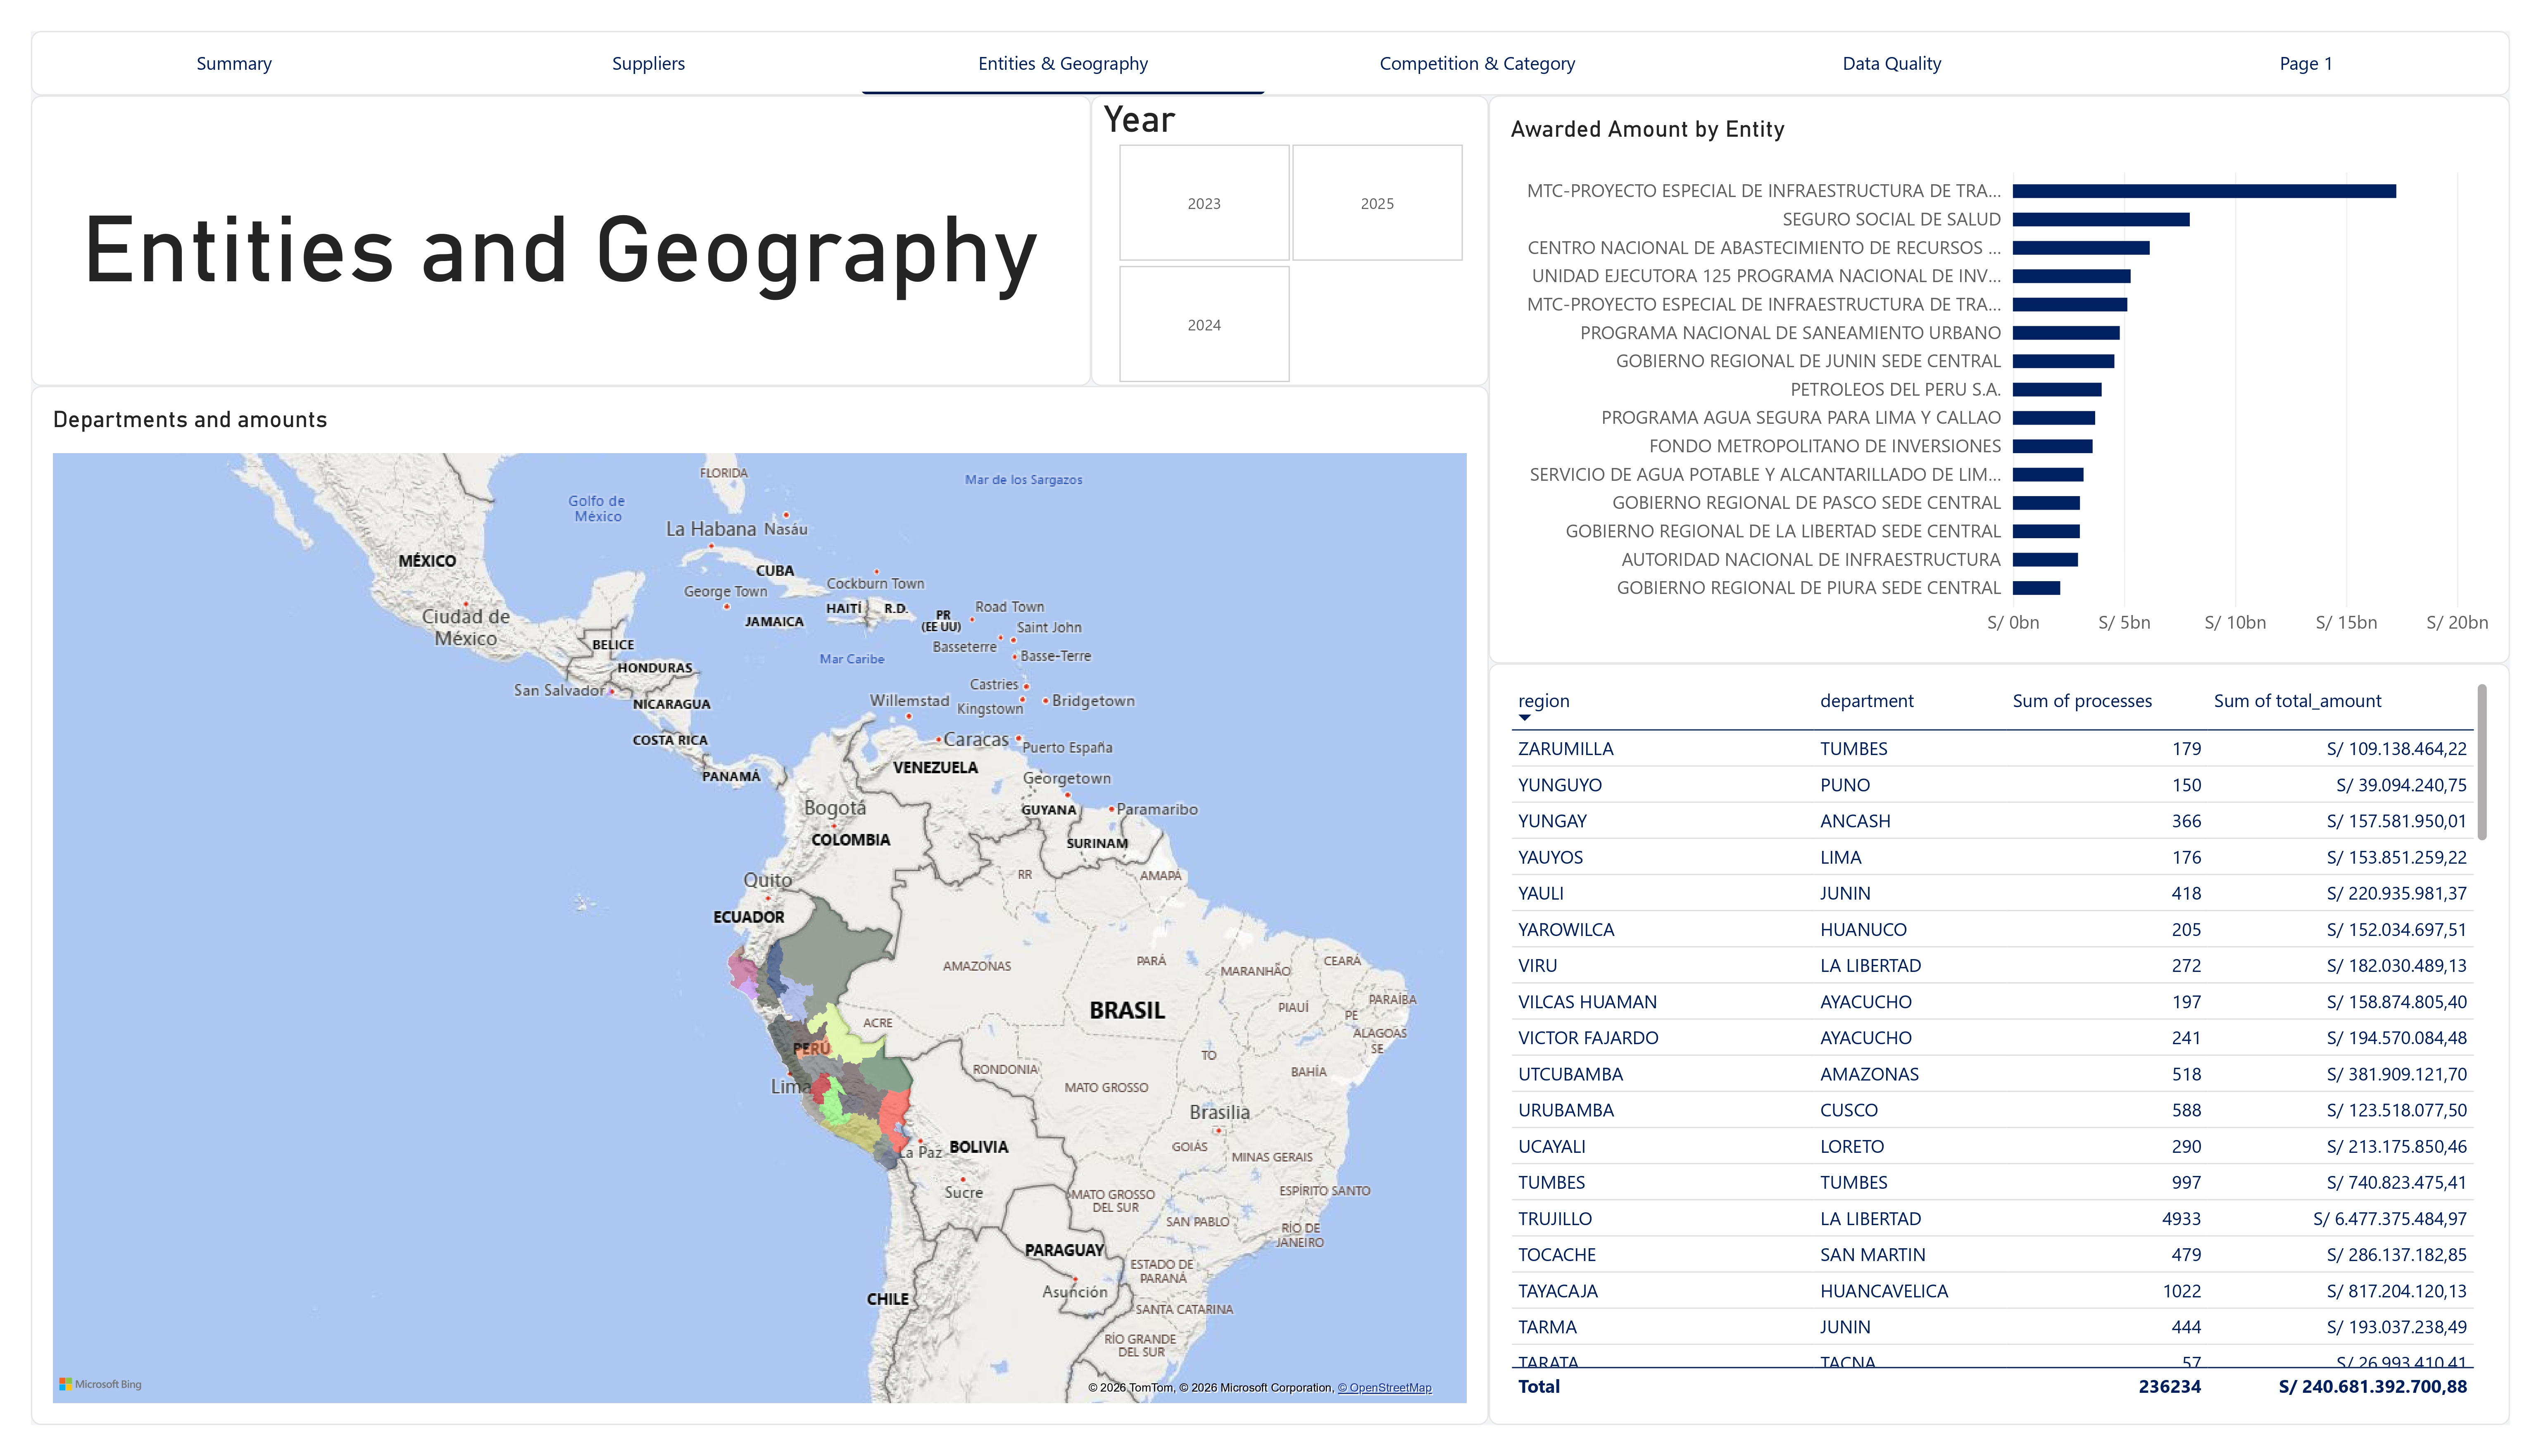

What the dashboard file says about the page in this screenshot:
{"tool":"powerbi","page":{"name":"Entities & Geography","canvas":[1920,1080],"ordinal":2},"visuals":[{"type":"textbox","box":[0,50,820.5,225.2],"z":0},{"type":"clusteredBarChart","title":"Awarded Amount by Entity","fields":{"Category":["v_top_entities.procuring_entity_name"],"Y":["Sum(v_top_entities.total_amount)"]},"box":[1128.7,50,791.6,439.9],"z":1000},{"type":"filledMap","title":"Departments and amounts","fields":{"Category":["v_geographic_detail.Departamento_Peru"],"Series":["v_geographic_detail.total_amount"]},"box":[0,275.3,1128.7,804.7],"z":2000},{"type":"tableEx","fields":{"Values":["v_geographic_detail.region","v_geographic_detail.department","Sum(v_geographic_detail.processes)","Sum(v_geographic_detail.total_amount)"]},"box":[1128.7,490,791.6,590],"z":3000},{"type":"slicer","fields":{"Values":["Dim_Year.Year"]},"box":[820.5,50,308.2,225.2],"z":4000},{"type":"pageNavigator","box":[0,0,1920.3,50],"z":4001}]}

Visuals, with their boxes on the page's 1920x1080 design canvas (x1, y1, x2, y2). These are canvas units, not pixel positions in the 2541x1456 screenshot, which may show the page scaled, cropped or inside an application window:
textbox: locate(0, 50, 820, 275)
"Awarded Amount by Entity" clusteredBarChart: locate(1129, 50, 1920, 490)
"Departments and amounts" filledMap: locate(0, 275, 1129, 1080)
tableEx - v_geographic_detail.region x v_geographic_detail.department: locate(1129, 490, 1920, 1080)
slicer - Dim_Year.Year: locate(820, 50, 1129, 275)
pageNavigator: locate(0, 0, 1920, 50)
